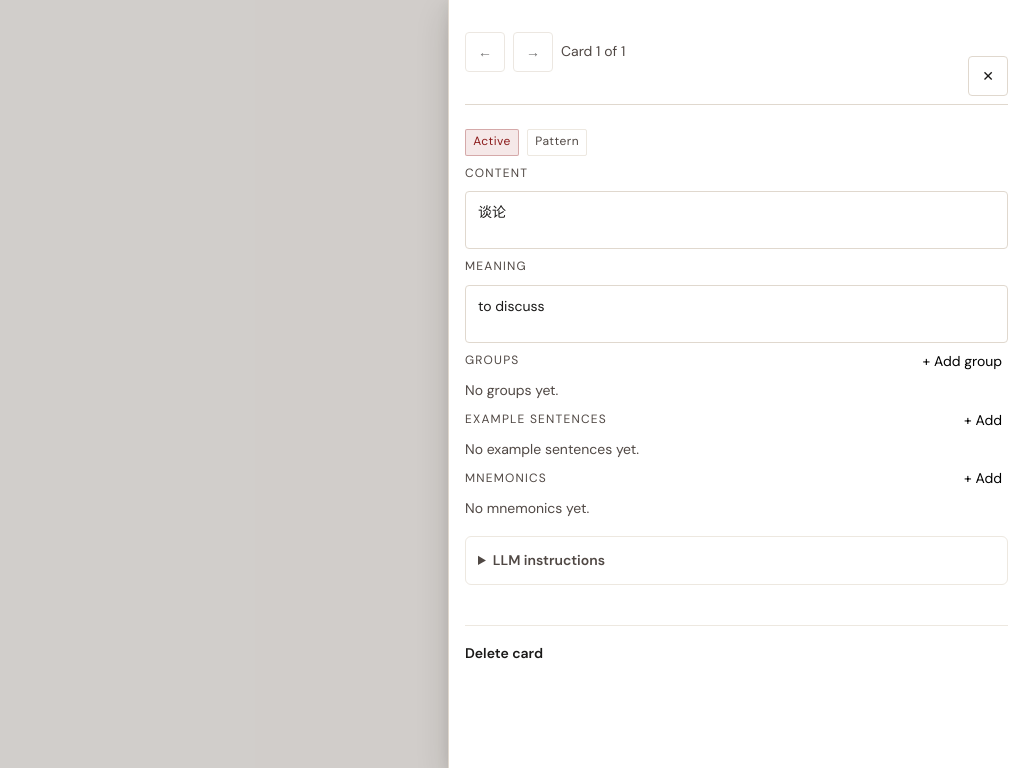
ActiveCardDrawer › saves edited card content through the active-card PATCH endpoint
Step 1. Replace the text in the text box showing "to discuss" with "to talk about in a more formal register" → (736, 314), box [465,285,1008,343]
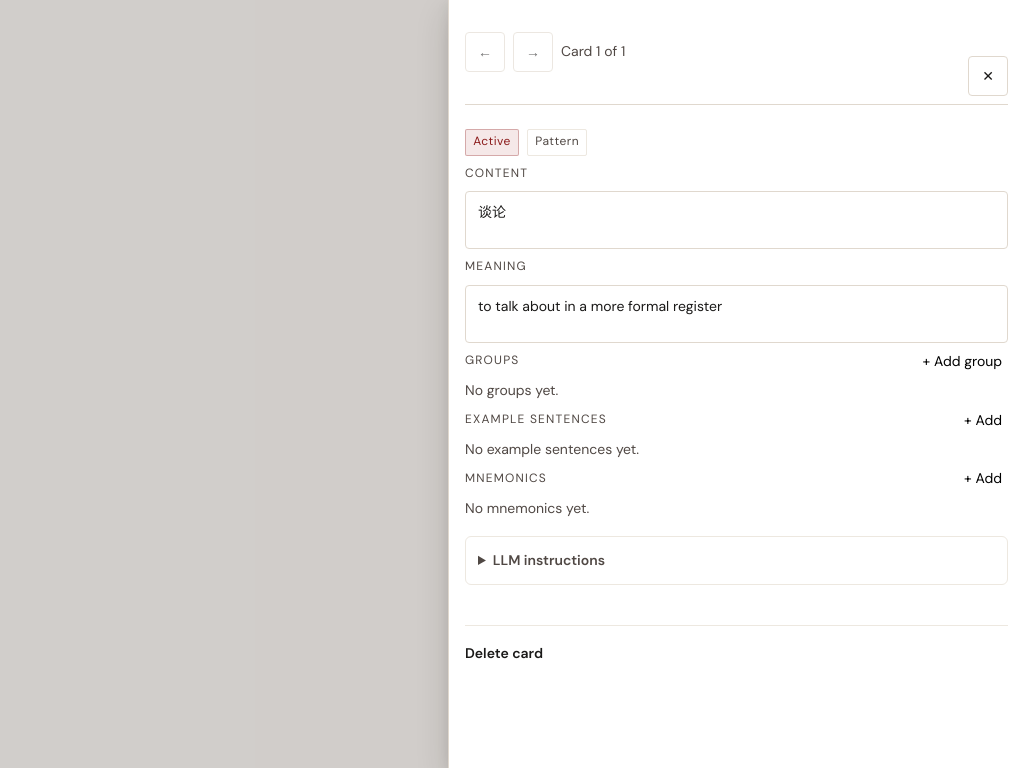
Step 2. Leave the text box showing "to discuss", box [465,285,1008,343]
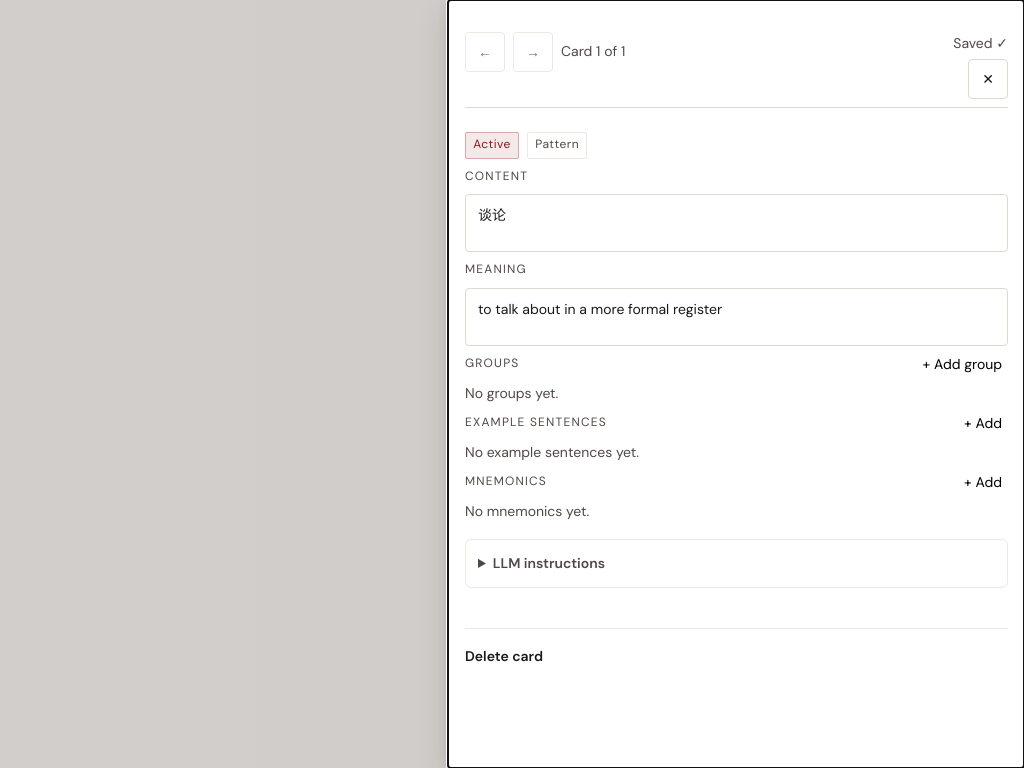
expect the text "Saved ✓" is shown: met, box [953,32,1008,55]
